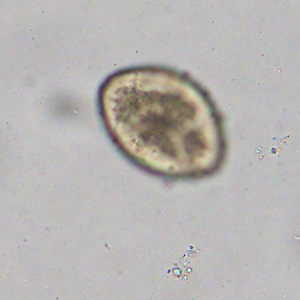Fasciola_hepatica_egg: (96, 63, 227, 179)
